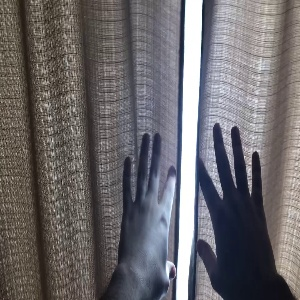hand: (198, 124, 278, 278), (118, 133, 176, 291)
